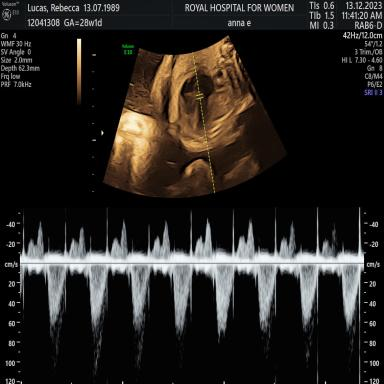Ultrasound-Waves: (29, 205, 357, 384)
